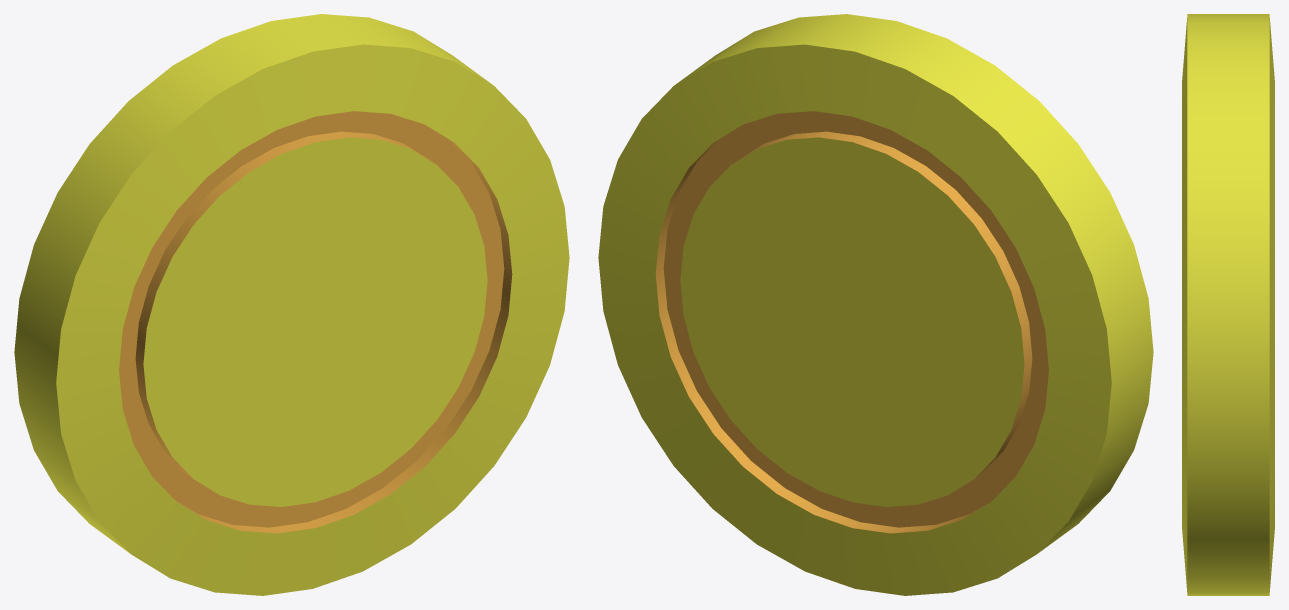
Rendered from Coin.fbx.
The picture shows the model from 3 angles, left to right: view 1: azimuth 30°, elevation 25°; view 2: azimuth 150°, elevation 25°; view 3: azimuth 270°, elevation 25°; orthographic projection.
Parts seen in each view (by area): view 1: Circle; view 2: Circle; view 3: Circle.
Boxes of the visible parts, x1=… form: Circle: x1=14, y1=14, x2=569, y2=595; Circle: x1=598, y1=14, x2=1153, y2=595; Circle: x1=1182, y1=14, x2=1274, y2=595.
Size of the model in its own units: 175 by 175 by 27.88.
